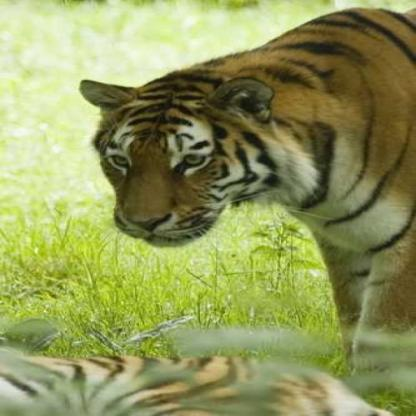Tiger: (79, 3, 415, 361)
